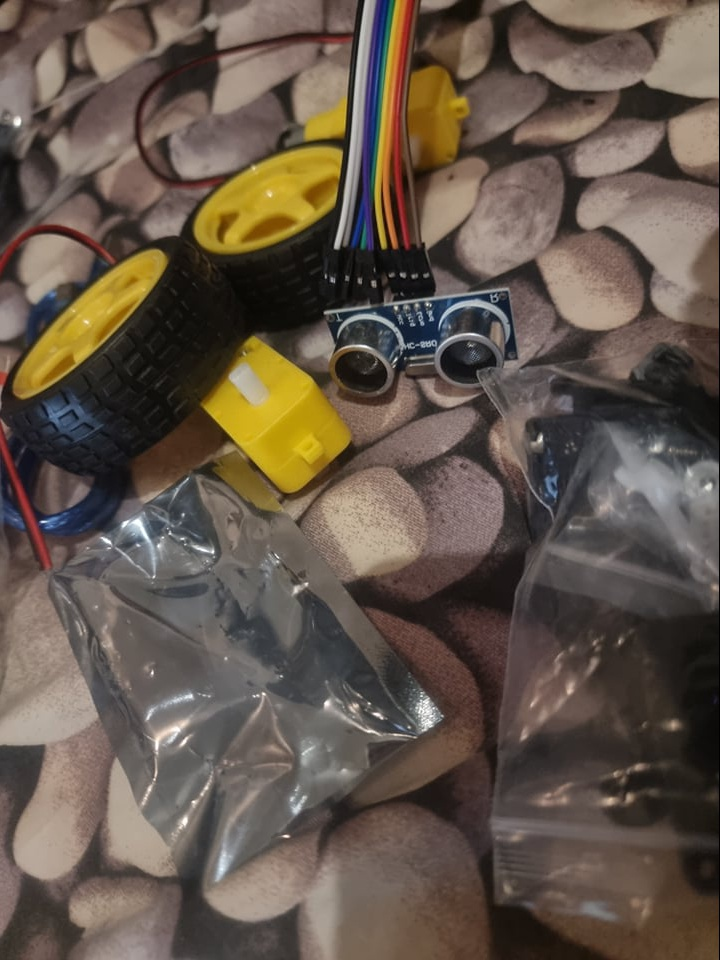SENSOR: (325, 305, 516, 397)
